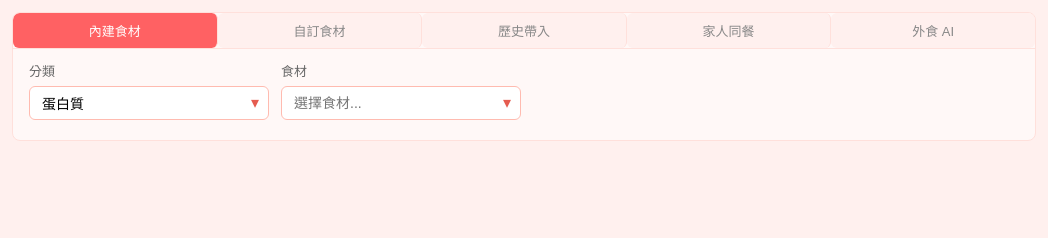
Test case: searchable menu integrations › preserves custom food baseline quantities and resets after adding
The width and height of the screenshot is (1048, 238).
Later steps or results of the test are not shown.
Click the button "自訂食材" at (320, 30), box [218,13,422,48]
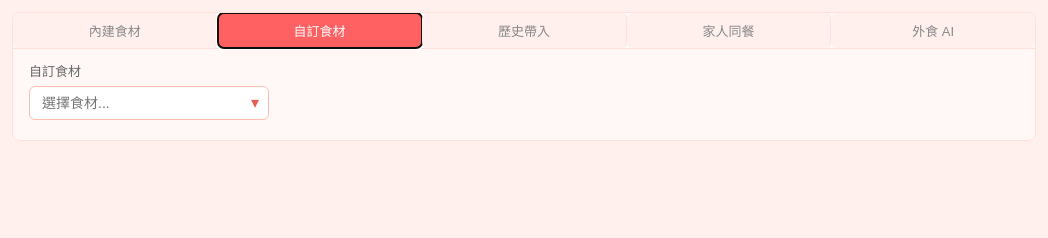
Type "YOGURT" into the dropdown labelled "自訂食材" at (149, 103), box [29,86,269,120]
Then press Enter
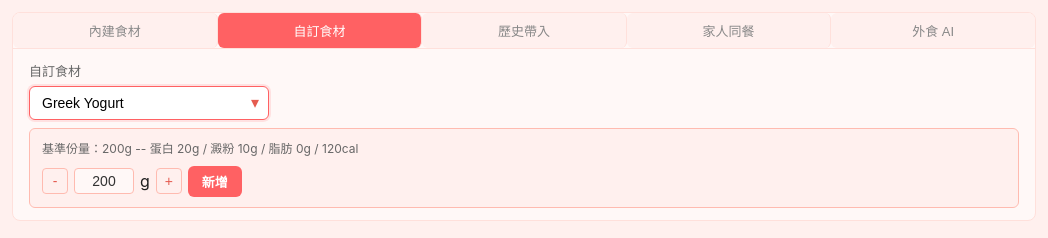
Expected: the number field holds "200", [74,168,134,194]
